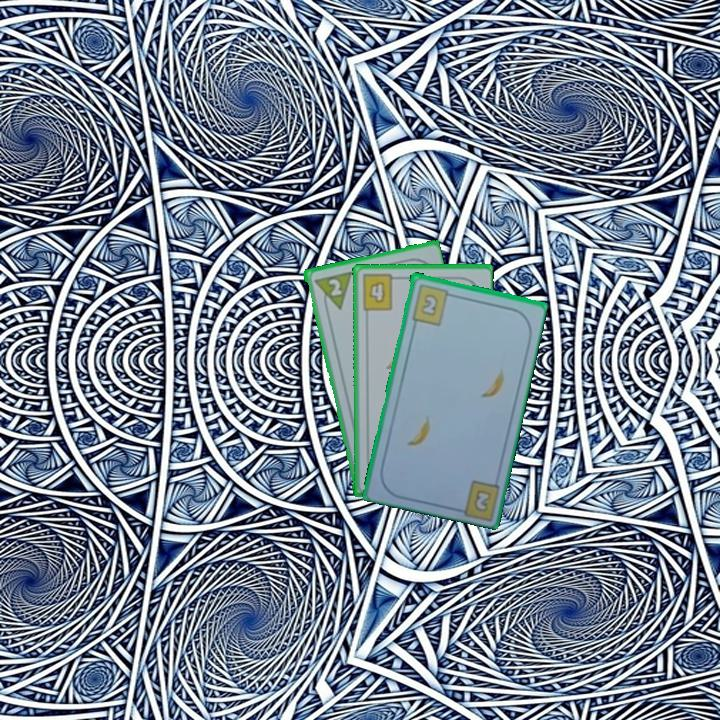2b: (408, 280, 457, 328), (470, 486, 494, 515)
2p: (324, 275, 344, 299)
4b: (359, 271, 401, 313)
